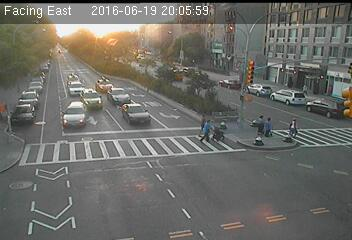neg: (234, 106, 251, 129), (184, 90, 194, 102)
pos: (251, 111, 269, 136), (194, 111, 212, 135), (200, 119, 218, 142), (285, 117, 303, 140), (261, 116, 277, 138), (299, 80, 311, 96), (284, 73, 295, 88)
